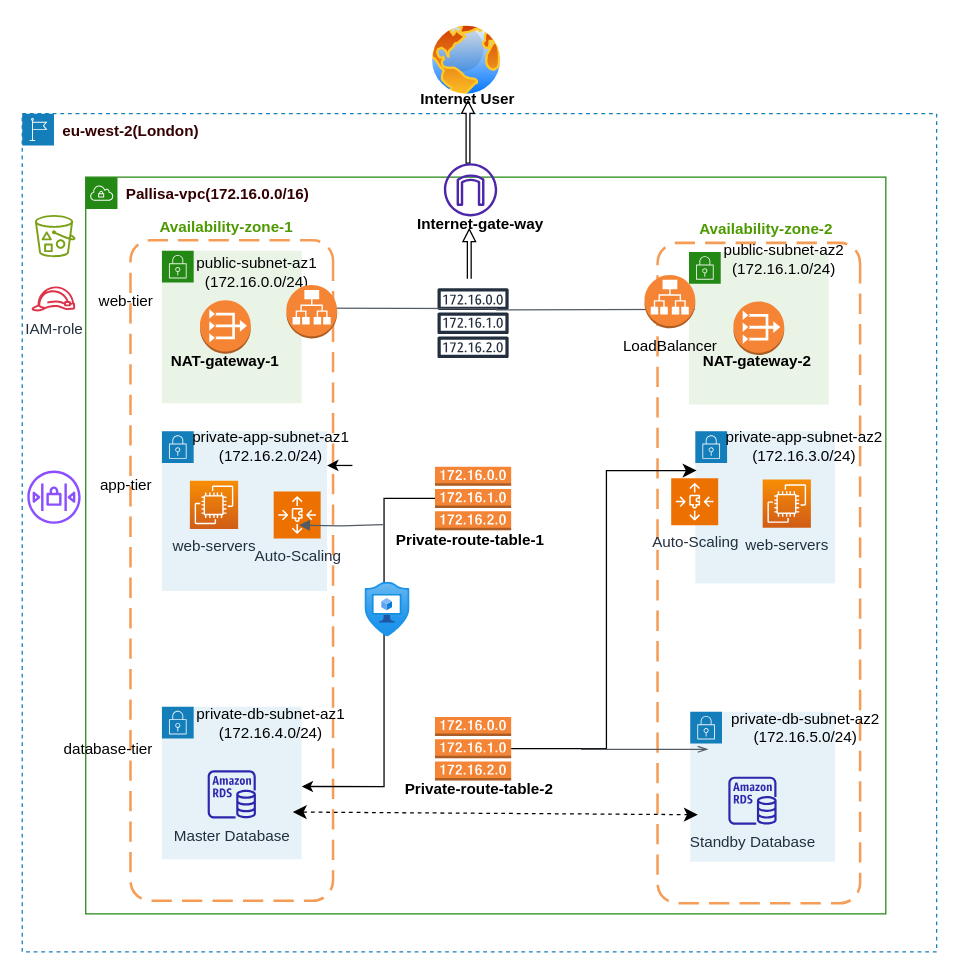
This 959x974 diagram has some shape labels left out. The centre of each missing label's shape, as x and y in pixels:
ALB: point (311, 311)
NACL: point (53, 496)
Public-route-table: point (472, 322)
s3-bucket: point (54, 235)
security group: point (387, 609)
